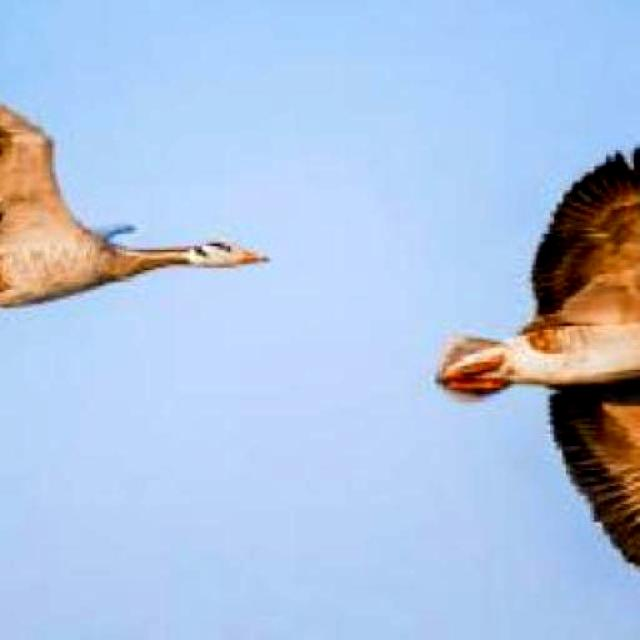airplane: (436, 142, 640, 612), (0, 45, 272, 321)
